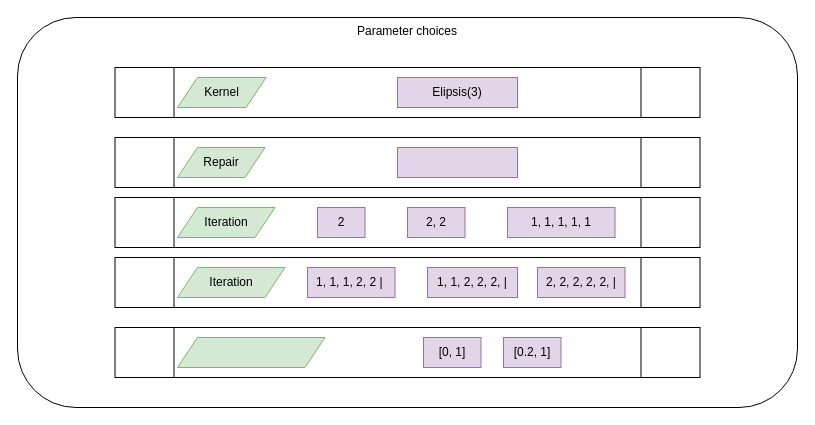
Image size: 815x425. Some labels were removed from this diagram. Each missing label, with the centre of its shape:
"Thresh(Min, max)" goes at point 250,352.
"True" goes at point 457,162.
